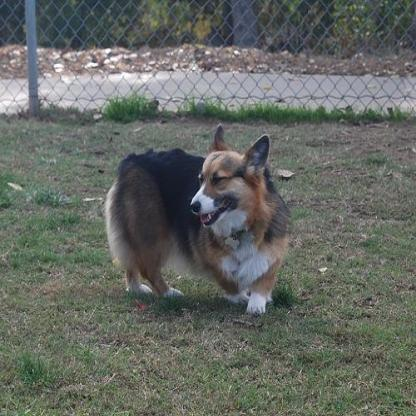Cardigan: (103, 123, 292, 314)
